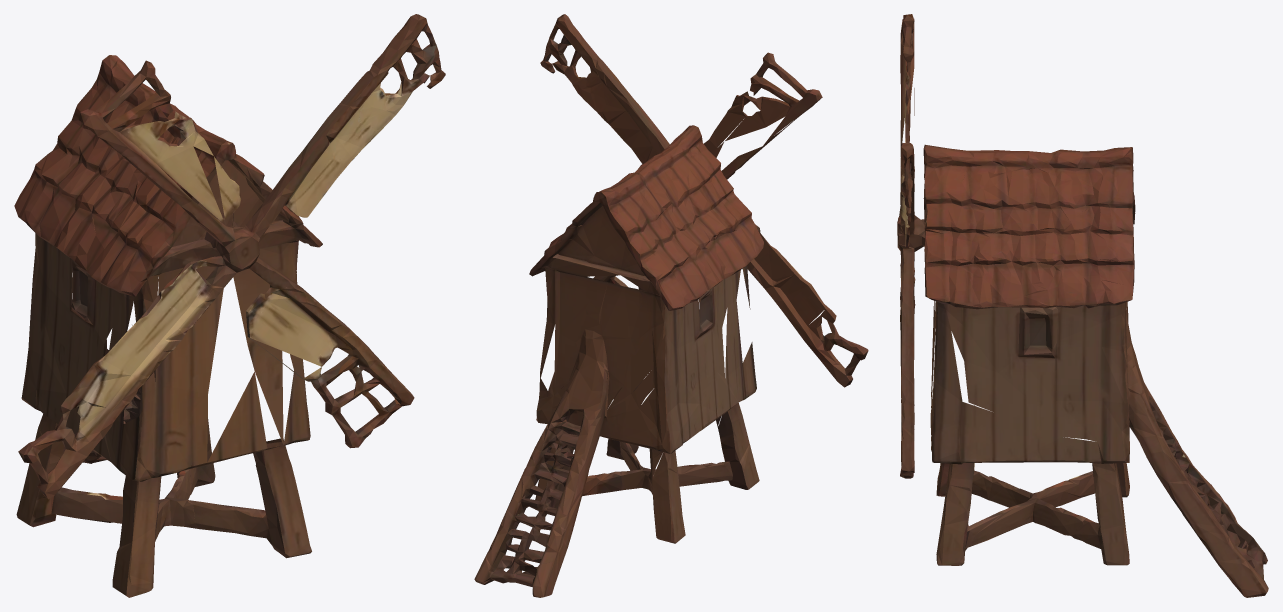
Rendered from windmill_hill_a.glb.
3 renders of one model, left to right at view 1: azimuth 30°, elevation 25°; view 2: azimuth 150°, elevation 25°; view 3: azimuth 270°, elevation 25°, orthographic. The views are drawn at different scales.
Visible parts, largest first — view 1: geometry_0; view 2: geometry_0; view 3: geometry_0.
Boxes of the visible parts, x1,y1,x2,y2 form: geometry_0: (14,14,445,597); geometry_0: (474,14,868,597); geometry_0: (897,14,1268,597).
Bounding box in the file's own units: 2.27 × 3 × 1.98.
Materials: 1 (1 with a texture image).
